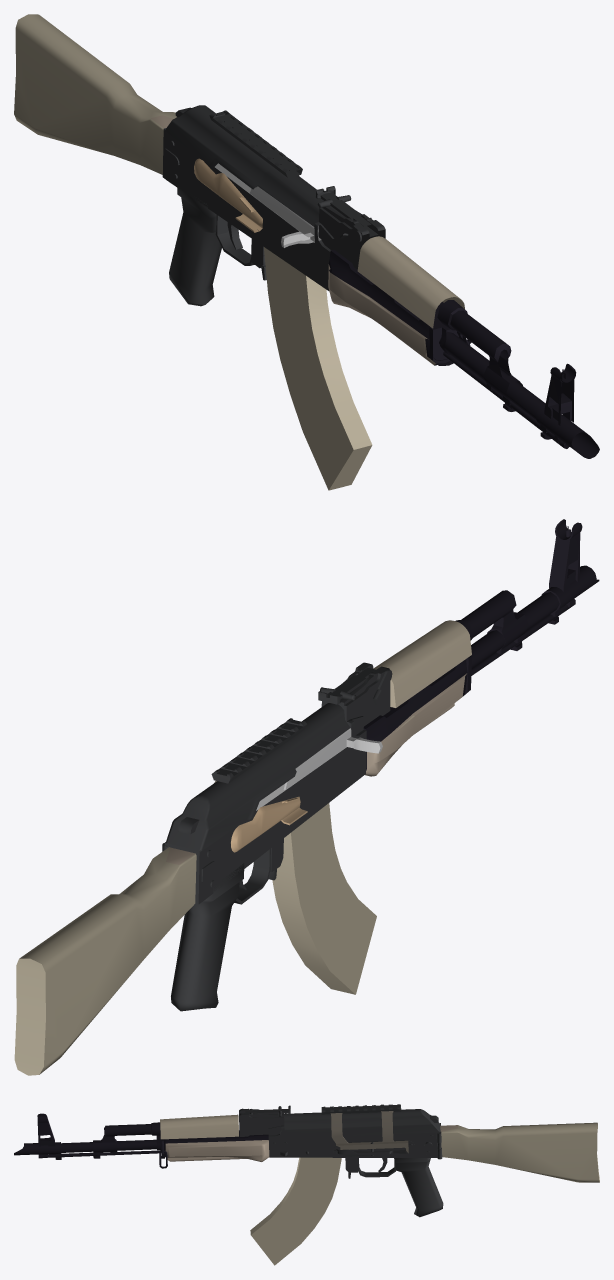
3 renders of one model, top to bottom at view 1: azimuth 30°, elevation 25°; view 2: azimuth 150°, elevation 25°; view 3: azimuth 270°, elevation 25°, orthographic. The views are drawn at different scales.
Visible parts, largest first — view 1: ak103; view 2: ak103; view 3: ak103.
Part boxes in pixels (x1,y1,x2,y2): ak103: (14, 14, 599, 490); ak103: (14, 519, 599, 1075); ak103: (14, 1104, 599, 1265).
Bounding box in the file's own units: 32.28 × 120 × 411.
2 materials, 2 textured.
